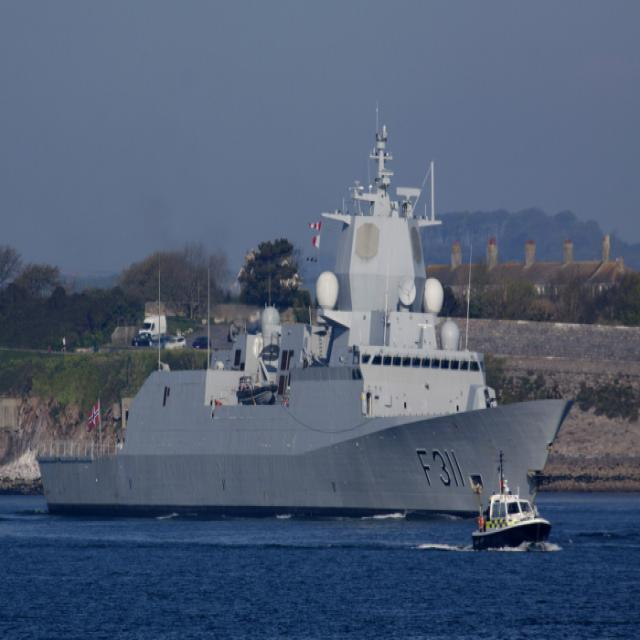Fragata: (35, 121, 585, 526)
